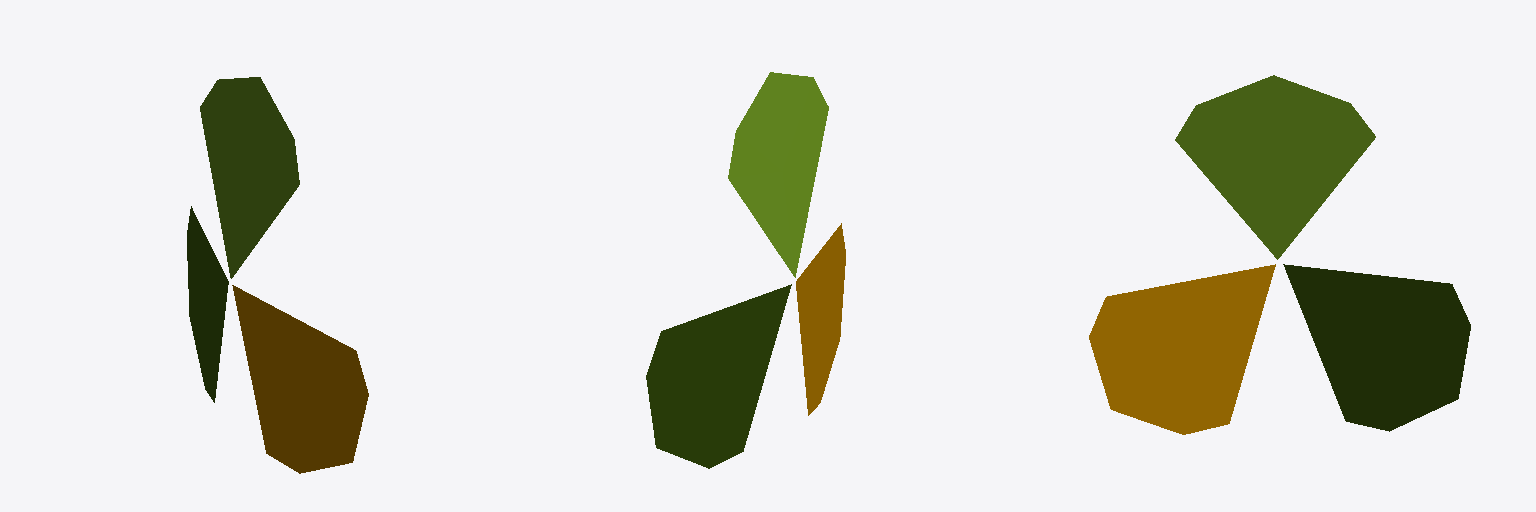
File: leaf_clump.obj
3 views of the same model, side by side, from view 1: azimuth 30°, elevation 25°; view 2: azimuth 150°, elevation 25°; view 3: azimuth 270°, elevation 25° (orthographic).
Parts seen in each view (by area): view 1: Grid, Grid.002, Grid.001; view 2: Grid.001, Grid.002, Grid; view 3: Grid, Grid.001, Grid.002.
Boxes of the visible parts, <box> form: Grid: <box>232,285,368,473</box>; Grid.002: <box>200,77,299,278</box>; Grid.001: <box>187,206,228,402</box>; Grid.001: <box>646,284,791,468</box>; Grid.002: <box>728,72,828,277</box>; Grid: <box>796,223,845,415</box>; Grid: <box>1089,264,1275,434</box>; Grid.001: <box>1283,264,1470,431</box>; Grid.002: <box>1175,75,1375,259</box>.
Size of the model in its own units: 0.0033 by 0.0217 by 0.0208.